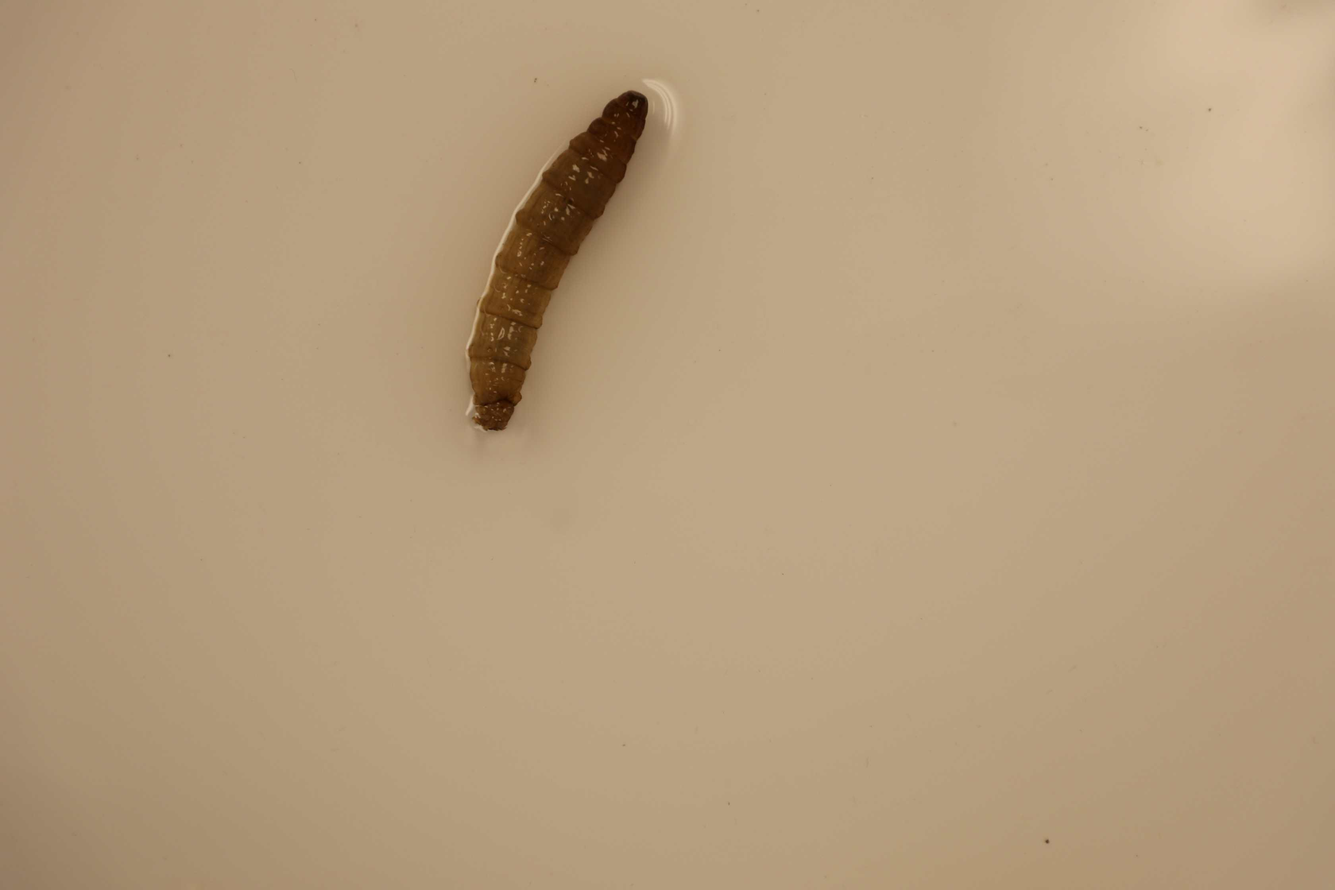Other: (467, 89, 649, 433)
